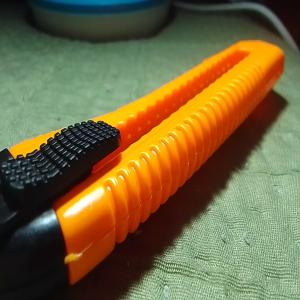estilete: (0, 38, 284, 300)
